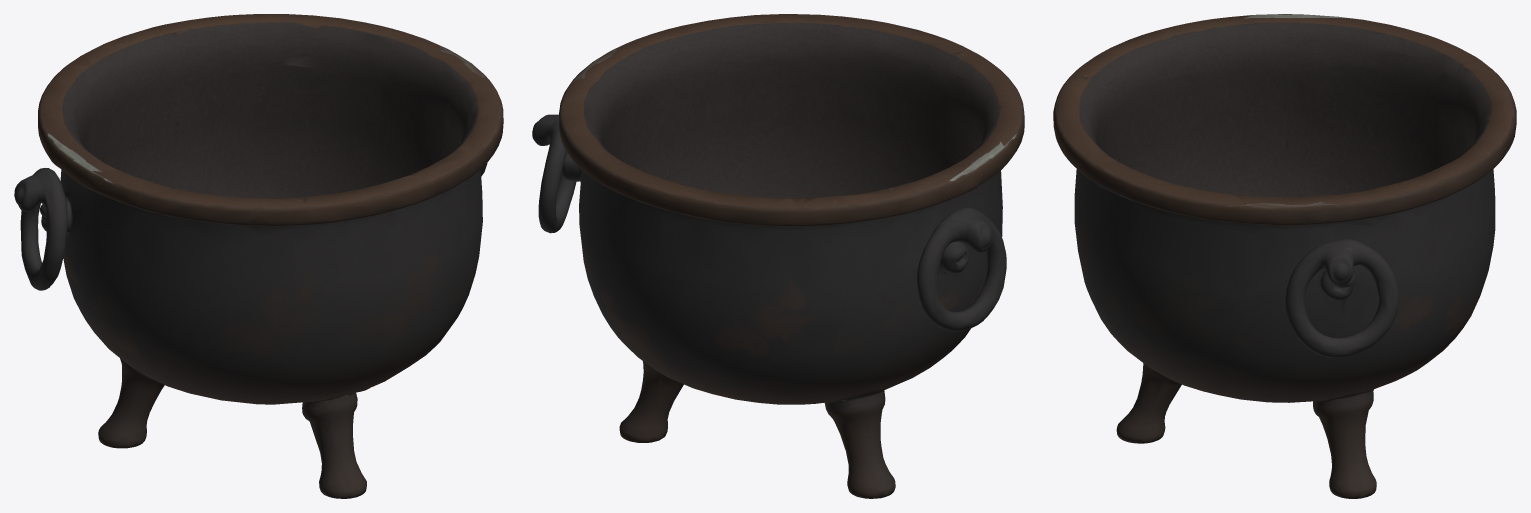
File: cauldron.glb
3 renders of one model, left to right at view 1: azimuth 30°, elevation 25°; view 2: azimuth 150°, elevation 25°; view 3: azimuth 270°, elevation 25°, orthographic.
Visible parts, largest first — view 1: cauldron; view 2: cauldron; view 3: cauldron.
Boxes of the visible parts, x1,y1,x2,y2 form: cauldron: [14, 14, 503, 498]; cauldron: [532, 14, 1024, 498]; cauldron: [1053, 14, 1516, 498].
Size of the model in its own units: 0.8788 by 0.5998 by 0.7769.
Materials: 1 (1 with a texture image).
